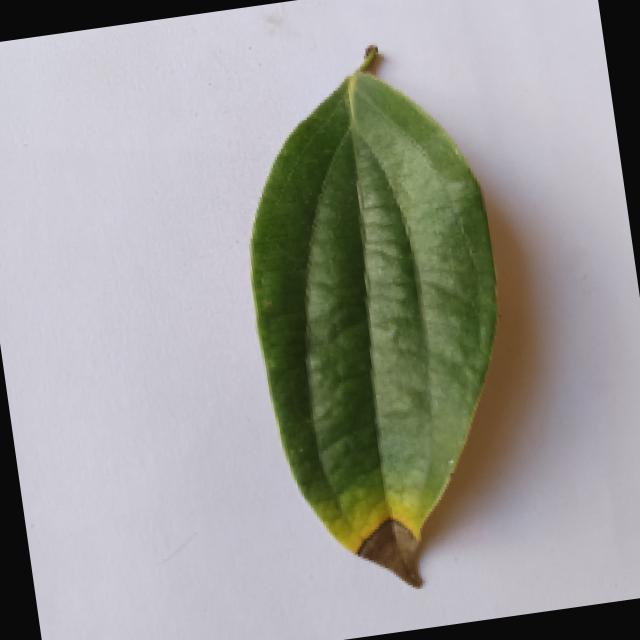footrot: (215, 42, 542, 607)
